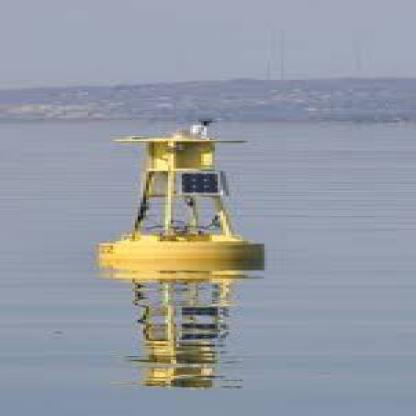buoy: (80, 114, 273, 284)
